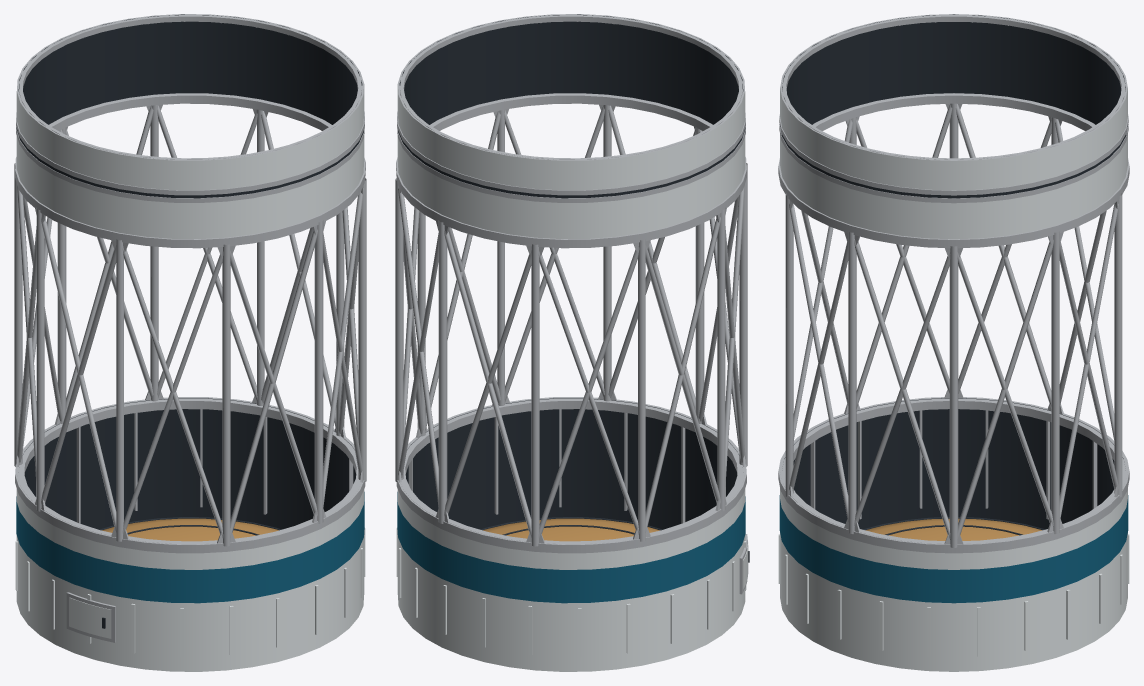
The model's file is interstage_hot_staging_d37.glb.
3 renders of one model, left to right at view 1: azimuth 30°, elevation 25°; view 2: azimuth 150°, elevation 25°; view 3: azimuth 270°, elevation 25°, orthographic.
Parts seen in each view (by area): view 1: interstage_hot_staging_d37_mesh; view 2: interstage_hot_staging_d37_mesh; view 3: interstage_hot_staging_d37_mesh.
Boxes of the visible parts, <box> form: interstage_hot_staging_d37_mesh: <box>14,14,366,671</box>; interstage_hot_staging_d37_mesh: <box>395,14,749,671</box>; interstage_hot_staging_d37_mesh: <box>778,14,1129,671</box>.
Size of the model in its own units: 3.77 by 6 by 3.74.
